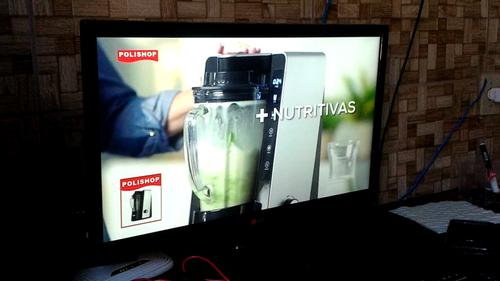Polishop #1: (114, 167, 166, 233)
